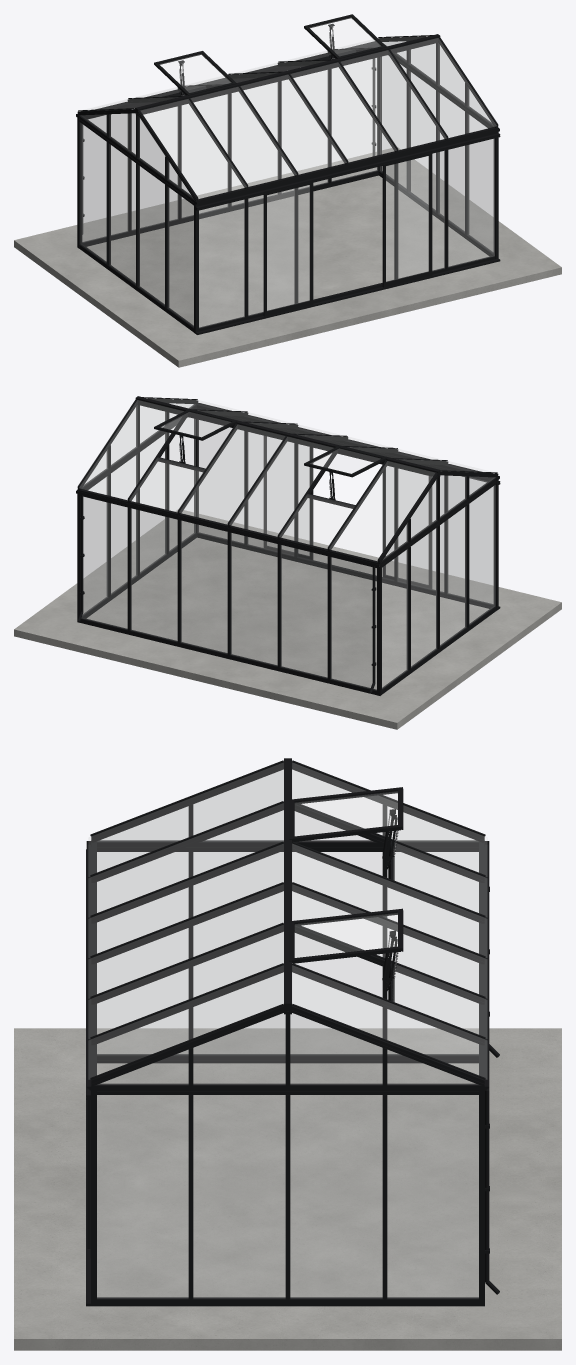
File: sg-rect-10-2-15-1.glb
3 renders of one model, top to bottom at view 1: azimuth 30°, elevation 25°; view 2: azimuth 150°, elevation 25°; view 3: azimuth 270°, elevation 25°, orthographic. The views are drawn at different scales.
Visible parts, largest first — view 1: scandiglas-rect-10-2-15-1; view 2: scandiglas-rect-10-2-15-1; view 3: scandiglas-rect-10-2-15-1.
Boxes of the visible parts, box(x1,y1,x2,y2) form: scandiglas-rect-10-2-15-1: box(14, 14, 561, 367); scandiglas-rect-10-2-15-1: box(14, 396, 561, 729); scandiglas-rect-10-2-15-1: box(14, 758, 561, 1350).
Bounding box in the file's own units: 5.88 × 2.89 × 4.38.
5 materials, 1 textured.
